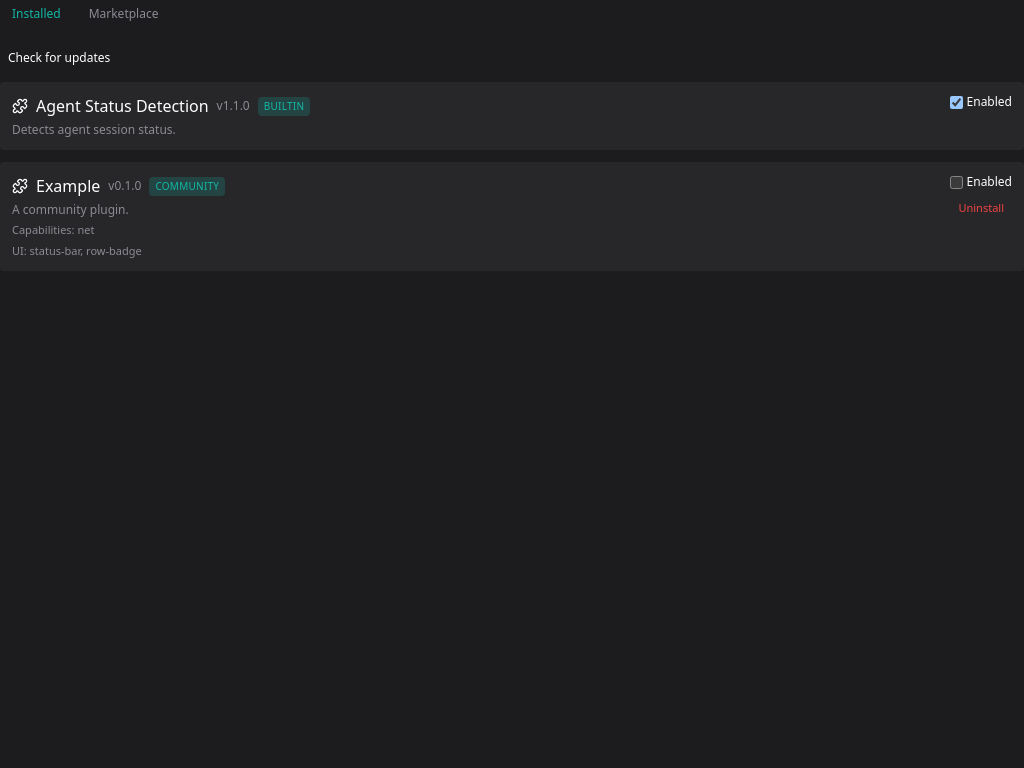
PluginsSettings › a failed details fetch shows the error, not a false 'no releases'
This screenshot has width=1024, height=768.
// example.plugin has a gh source, so opening it triggers a details fetch.
Click the button with test id "plugin-open-example.plugin": (68,186) [36,174,100,198]
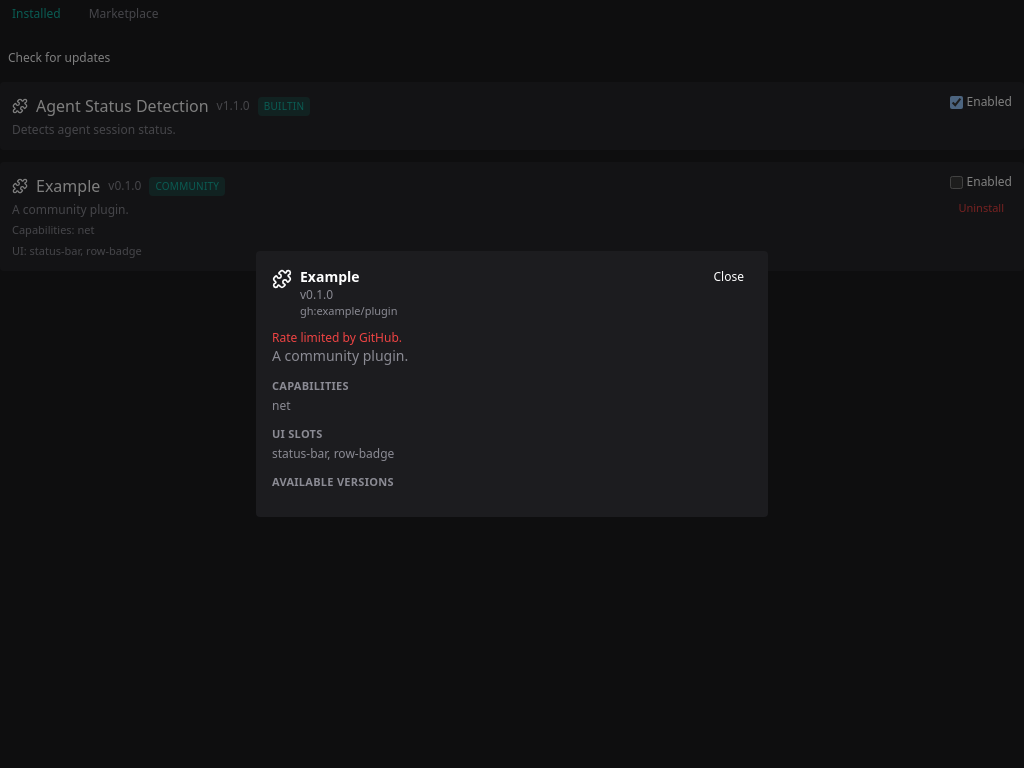
Result: the text with test id "plugin-detail-error" reads "Rate limited by GitHub." at [272,329,402,346]
